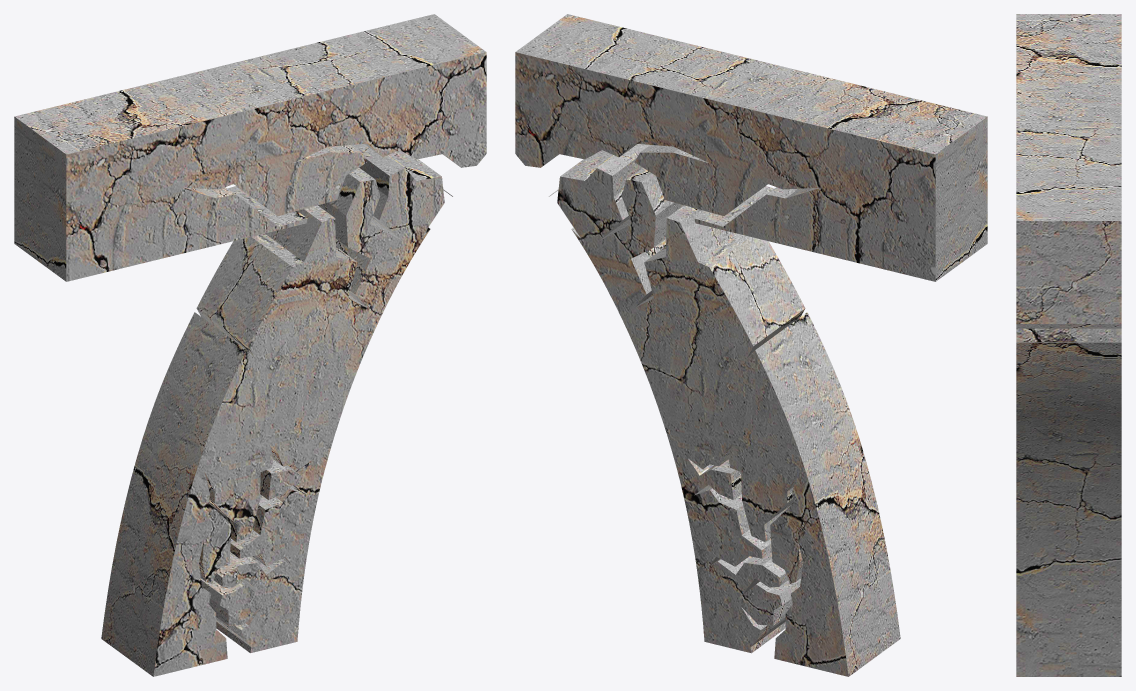
3 renders of one model, left to right at view 1: azimuth 30°, elevation 25°; view 2: azimuth 150°, elevation 25°; view 3: azimuth 270°, elevation 25°, orthographic.
Parts seen in each view (by area): view 1: 7; view 2: 7; view 3: 7.
Part boxes in pixels (x1,y1,x2,y2): 7: (14,14,486,676); 7: (515,14,987,676); 7: (1016,14,1121,676).
Bounding box in the file's own units: 69.87 × 86.36 × 15.
1 material, 1 textured.
